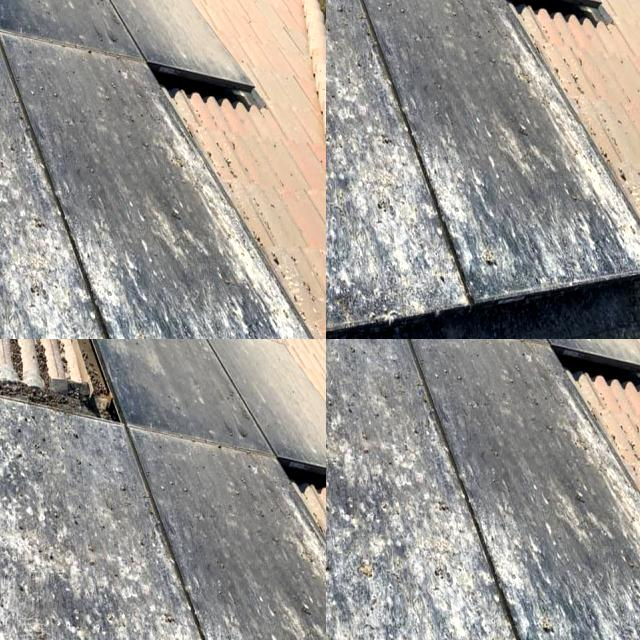bird: (0, 23, 64, 154), (16, 178, 78, 280), (0, 87, 35, 206), (0, 26, 35, 144), (81, 284, 152, 339), (326, 566, 368, 640), (0, 277, 36, 339), (326, 493, 345, 604), (424, 554, 461, 610), (353, 549, 388, 608), (326, 395, 355, 453), (436, 477, 462, 535), (529, 606, 570, 640), (569, 461, 590, 526), (326, 531, 354, 574), (326, 360, 349, 408), (326, 425, 347, 477), (326, 494, 347, 533), (326, 339, 352, 366), (326, 339, 352, 358)
hotspot: (0, 484, 56, 640)
